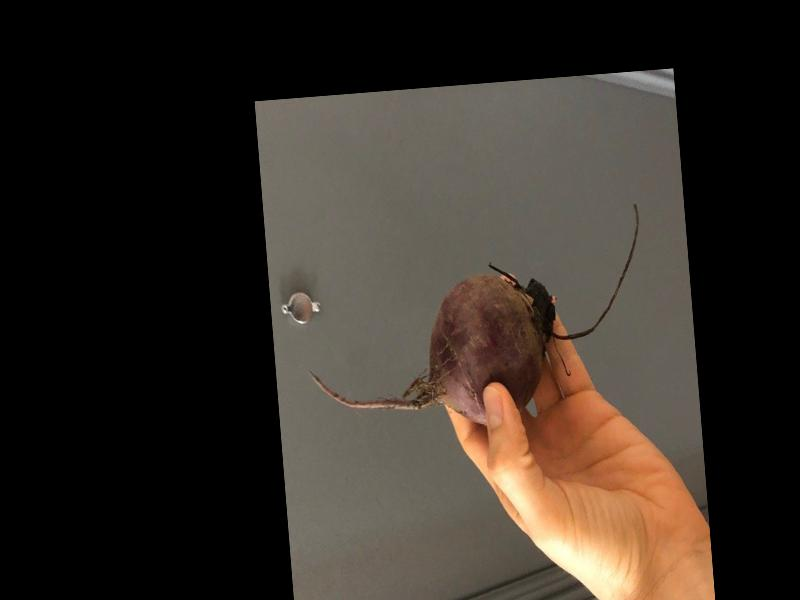Beet: (299, 201, 654, 438)
